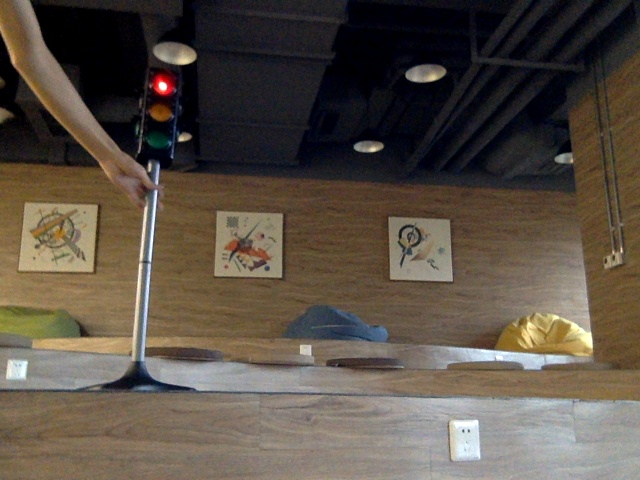red: (145, 72, 175, 153)
